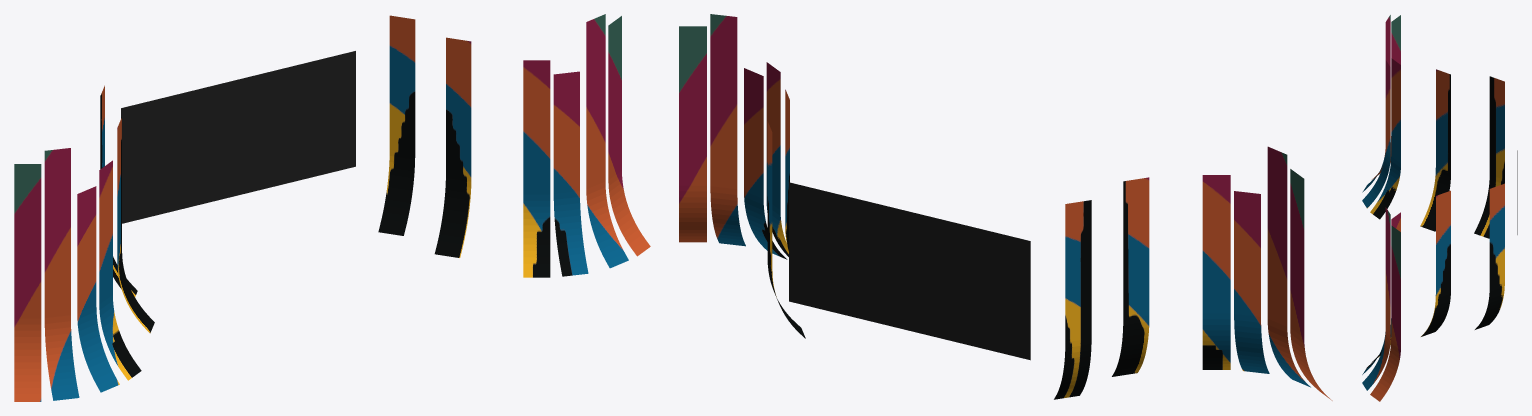
The model's file is banners_screen.bak.glb.
3 renders of one model, left to right at view 1: azimuth 30°, elevation 25°; view 2: azimuth 150°, elevation 25°; view 3: azimuth 270°, elevation 25°, orthographic. The views are drawn at different scales.
Visible parts, largest first — view 1: LED_Panel_11.001; view 2: LED_Panel_11.001; view 3: LED_Panel_11.001.
Boxes of the visible parts, left/top/right/bottom form: LED_Panel_11.001: left=14, top=14, right=650, bottom=401; LED_Panel_11.001: left=679, top=14, right=1332, bottom=400; LED_Panel_11.001: left=1362, top=15, right=1517, bottom=401.
Bounding box in the file's own units: 32.52 × 11.54 × 9.4.
2 materials, 1 textured.
